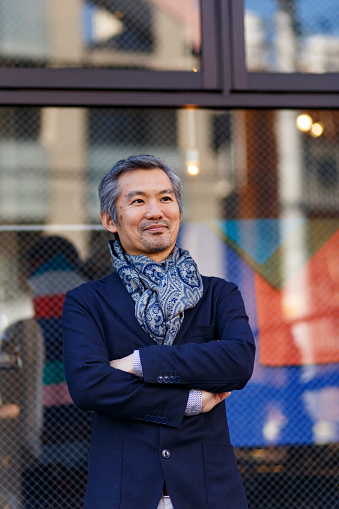em pe: (37, 144, 289, 509)
